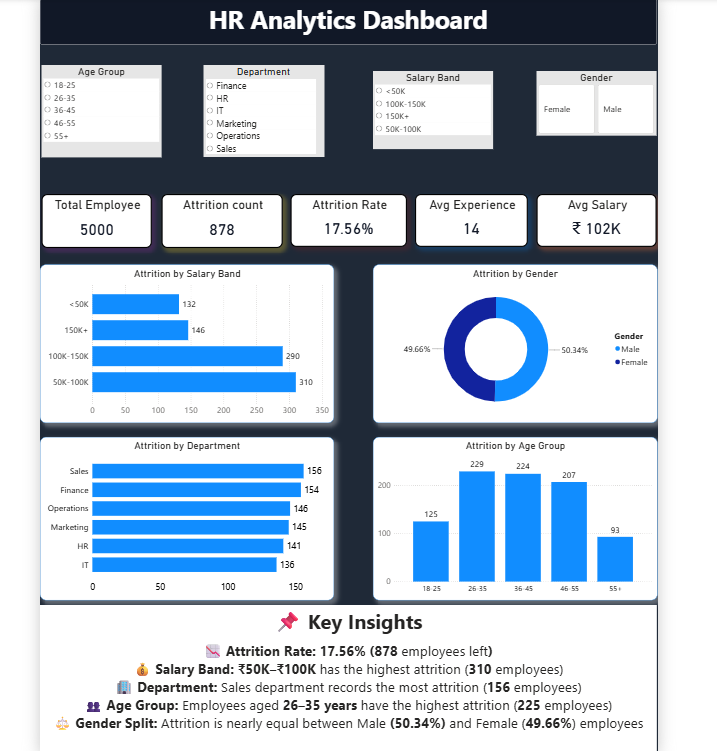

What the dashboard file says about the page in this screenshot:
{"tool":"powerbi","page":{"name":"Page 1","canvas":[1400,1300],"ordinal":0},"visuals":[{"type":"textbox","box":[0,0,1400,90],"z":0},{"type":"card","title":"Total Employee","fields":{"Values":["HR_Data.total emp"]},"box":[0,145,205,105],"z":1000},{"type":"card","title":"Attrition count","fields":{"Values":["HR_Data.Attrition Count"]},"box":[265,145,222.5,105],"z":2000},{"type":"card","title":"Attrition Rate","fields":{"Values":["HR_Data.Attrition Rate %"]},"box":[555,145,222.5,105],"z":3000},{"type":"card","title":"Avg Salary","fields":{"Values":["HR_Data.Avg Salary"]},"box":[557.5,305,220,105],"z":4000},{"type":"card","title":"Avg Age","fields":{"Values":["HR_Data.Avg Age"]},"box":[0,307.5,220,105],"z":5000},{"type":"card","title":"Avg Experience","fields":{"Values":["HR_Data.Avg Experience"]},"box":[265,305,222.5,105],"z":6000},{"type":"barChart","title":"Attrition  by Department","fields":{"Category":["HR_Data.Department"],"Y":["HR_Data.Attrition Count"]},"box":[0,930,667.5,370],"z":7000},{"type":"columnChart","title":"Attrition  by Age Group","fields":{"Category":["HR_Data.Age Group"],"Y":["HR_Data.Attrition Count"]},"box":[742.5,930,657.5,370],"z":8000},{"type":"clusteredBarChart","title":"Attrition  by Salary Band","fields":{"Category":["HR_Data.Salary Band"],"Y":["HR_Data.Attrition Count"]},"box":[742.5,520,657.5,375],"z":9000},{"type":"donutChart","title":"Attrition  by Gender","fields":{"Category":["HR_Data.Gender"],"Y":["HR_Data.Attrition Count"]},"box":[0,525,667.5,370],"z":10000},{"type":"listSlicer","fields":{"Values":["HR_Data.Department"]},"box":[1115,90,285,215],"z":11000},{"type":"listSlicer","fields":{"Values":["HR_Data.Gender"]},"box":[1115,320,285,185],"z":12000},{"type":"listSlicer","fields":{"Values":["HR_Data.Salary Band"]},"box":[812.5,320,285,185],"z":13000},{"type":"listSlicer","fields":{"Values":["HR_Data.Age Group"]},"box":[812.5,90,285,217.5],"z":14000}]}

Visuals, with their boxes on the page's 1400x1300 design canvas (x1, y1, x2, y2). These are canvas units, not pixel positions in the 717x751 screenshot, which may show the page scaled, cropped or inside an application window:
textbox: detection(0, 0, 1400, 90)
"Total Employee" card: detection(0, 145, 205, 250)
"Attrition count" card: detection(265, 145, 488, 250)
"Attrition Rate" card: detection(555, 145, 778, 250)
"Avg Salary" card: detection(558, 305, 778, 410)
"Avg Age" card: detection(0, 308, 220, 412)
"Avg Experience" card: detection(265, 305, 488, 410)
"Attrition  by Department" barChart: detection(0, 930, 668, 1300)
"Attrition  by Age Group" columnChart: detection(742, 930, 1400, 1300)
"Attrition  by Salary Band" clusteredBarChart: detection(742, 520, 1400, 895)
"Attrition  by Gender" donutChart: detection(0, 525, 668, 895)
listSlicer - HR_Data.Department: detection(1115, 90, 1400, 305)
listSlicer - HR_Data.Gender: detection(1115, 320, 1400, 505)
listSlicer - HR_Data.Salary Band: detection(812, 320, 1098, 505)
listSlicer - HR_Data.Age Group: detection(812, 90, 1098, 308)
